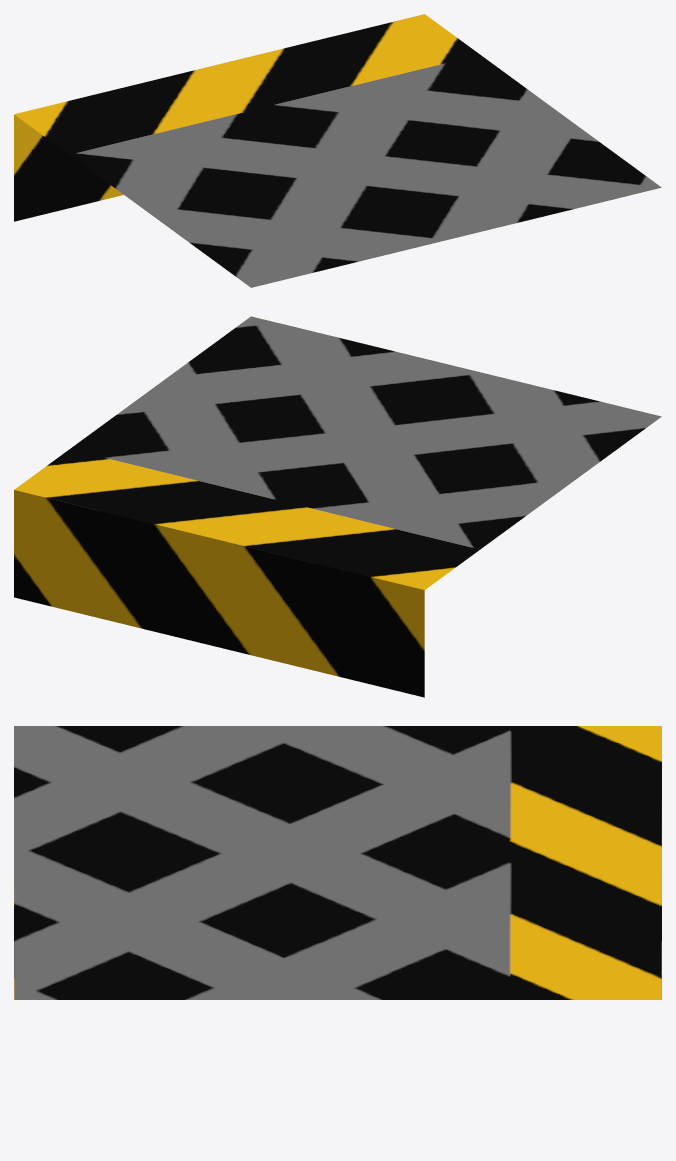
The model's file is floor_chain_side.glb.
3 renders of one model, top to bottom at view 1: azimuth 30°, elevation 25°; view 2: azimuth 150°, elevation 25°; view 3: azimuth 270°, elevation 25°, orthographic. The views are drawn at different scales.
Visible parts, largest first — view 1: Plane; view 2: Plane; view 3: Plane.
Part boxes in pixels (x1,y1,x2,y2): Plane: [14, 14, 661, 287]; Plane: [14, 316, 661, 697]; Plane: [14, 726, 661, 999].
Size of the model in its own units: 2 by 0.5 by 2.
1 material, 1 textured.
